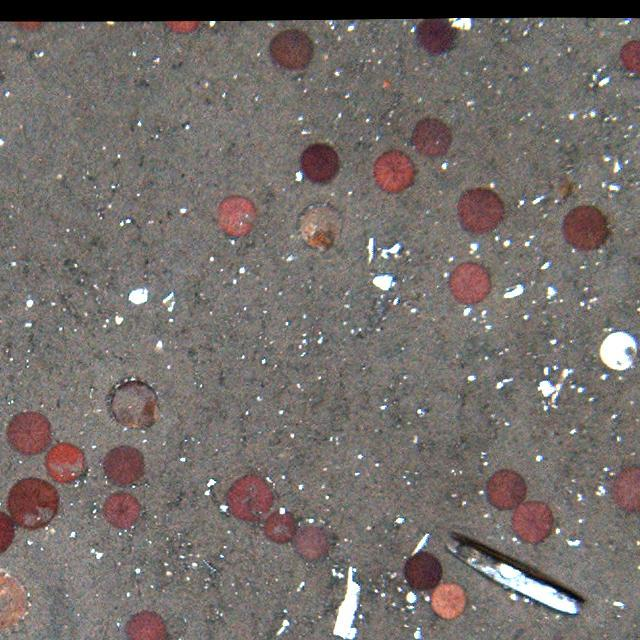scallop: (108, 381, 161, 430), (298, 204, 346, 251)
